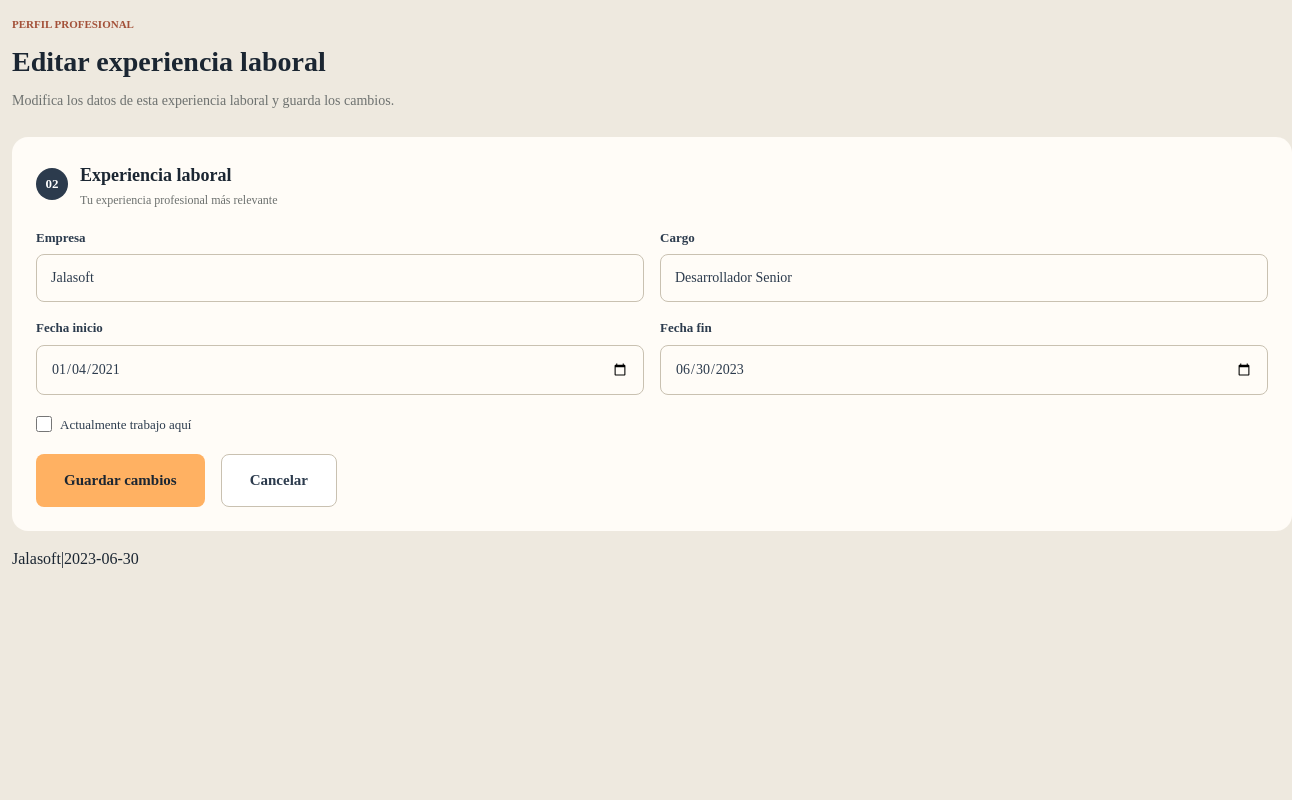
Test case: EditExperienceForm › guarda los cambios con PUT en la API y en el estado compartido
Replace the text in the field labelled "Empresa" with " Jala " at x=340, y=278, box [36,254,644,302]
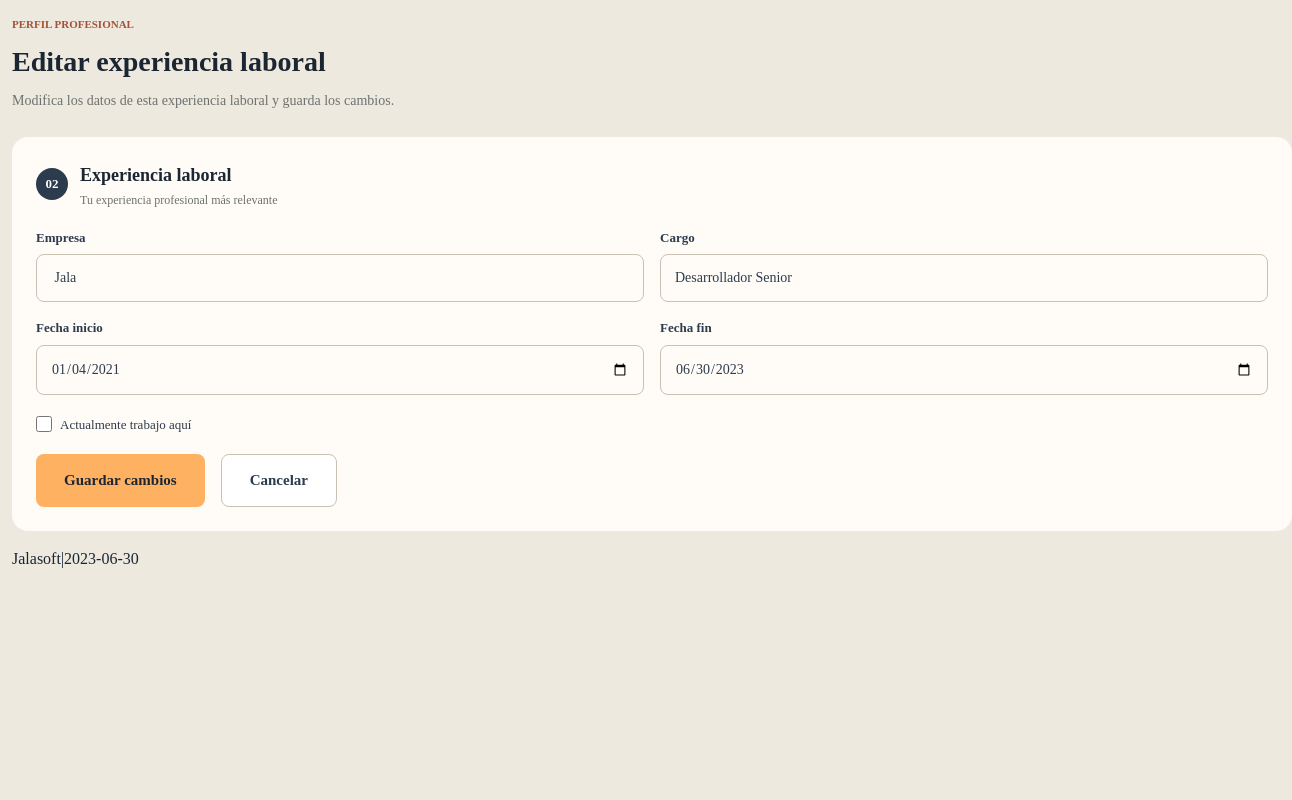
Click the button "Guardar cambios" at x=120, y=480, box [36,454,205,506]
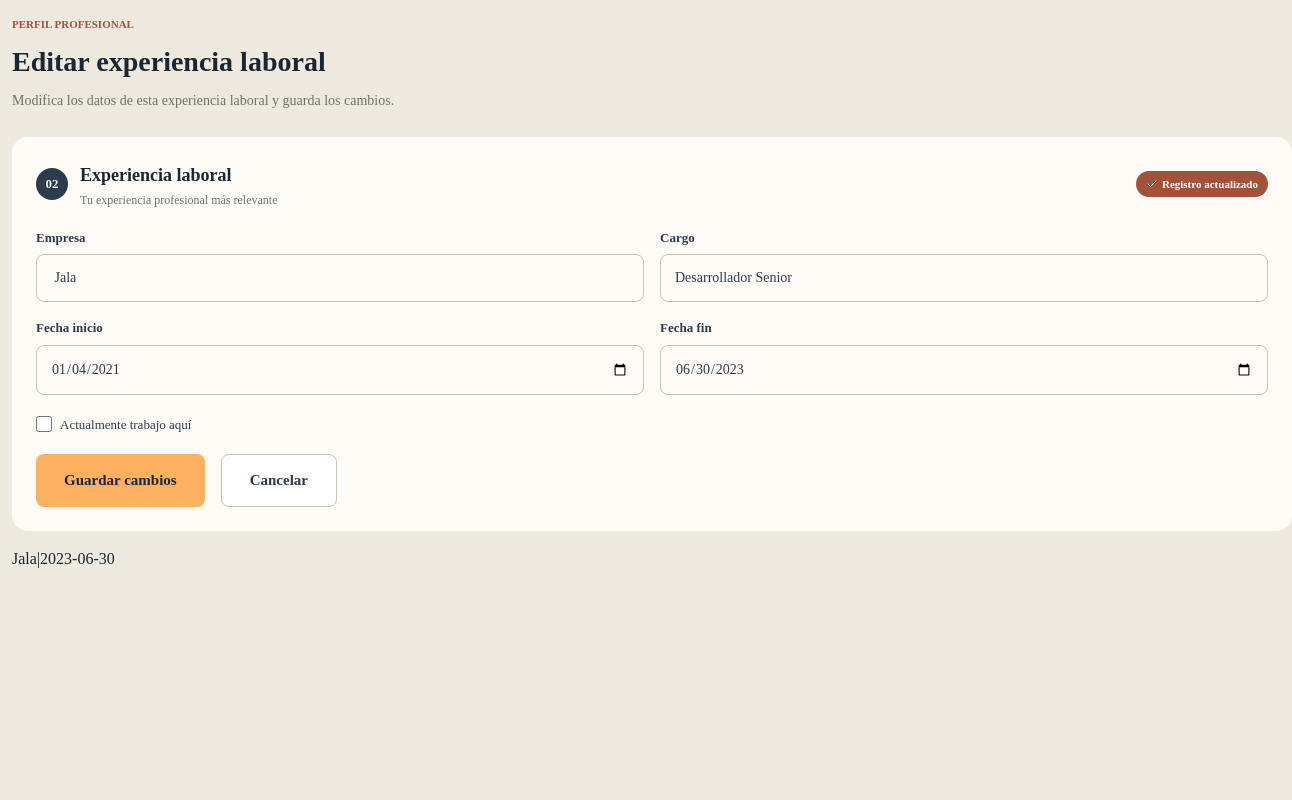
Expected: the message reads "Registro actualizado", [1162,178,1258,190]
Expected: the text with test id "guardado" reads "Jala|2023-06-30", [12,550,115,566]
